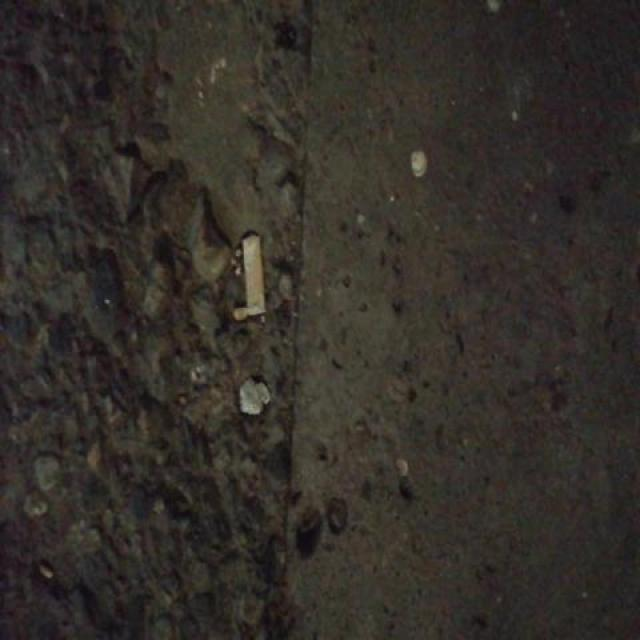non-organic waste: (239, 228, 270, 328)
